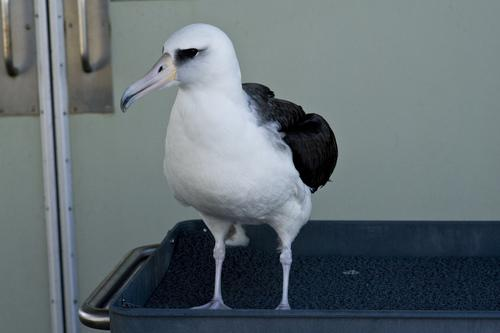002.Laysan_Albatross: (121, 22, 340, 312)
